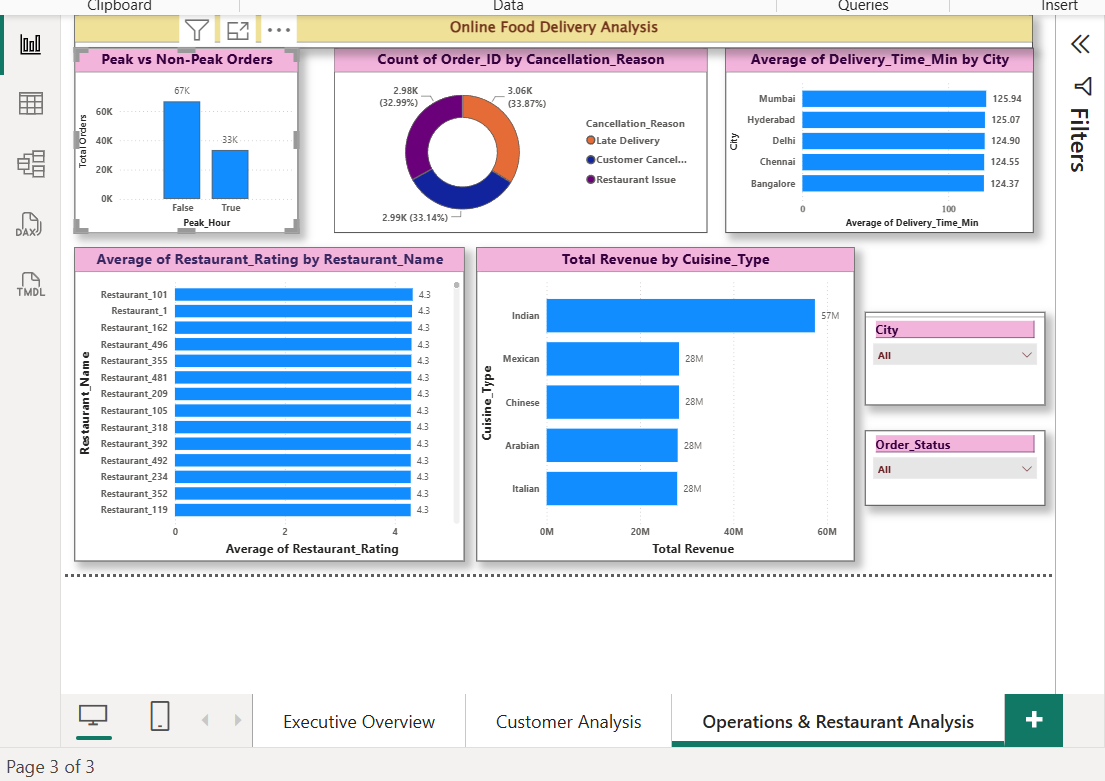

This screenshot's page, from the dashboard's own definition file:
{"tool":"powerbi","page":{"name":"Operations & Restaurant Analysis","canvas":[1280,720],"ordinal":2},"visuals":[{"type":"clusteredColumnChart","title":"Peak vs Non-Peak Orders","fields":{"Category":["final_food_delivery.Peak_Hour"],"Y":["final_food_delivery.Total Orders"]},"box":[17.8,42.1,288.2,238],"z":0},{"type":"clusteredBarChart","fields":{"Category":["final_food_delivery.City"],"Y":["Avg(final_food_delivery.Delivery_Time_Min)"]},"box":[856.6,42.1,396.7,238],"z":1},{"type":"donutChart","fields":{"Category":["final_food_delivery.Cancellation_Reason"],"Y":["CountNonNull(final_food_delivery.Order_ID)"]},"box":[351.4,42.1,480.9,238],"z":2},{"type":"barChart","fields":{"Category":["final_food_delivery.Restaurant_Name"],"Y":["Avg(final_food_delivery.Restaurant_Rating)"]},"box":[17.4,299.4,502.2,403.7],"z":3},{"type":"clusteredBarChart","fields":{"Category":["final_food_delivery.Cuisine_Type"],"Y":["final_food_delivery.Total Revenue"]},"box":[535.1,299.4,486.8,403.7],"z":4},{"type":"textbox","title":"Online Food Delivery Analysis","box":[17.4,0,1234.3,42.5],"z":5},{"type":"slicer","fields":{"Values":["final_food_delivery.City"]},"box":[1035.3,382.5,231.8,119.8],"z":6},{"type":"slicer","fields":{"Values":["final_food_delivery.Order_Status"]},"box":[1035.3,535.1,231.8,96.6],"z":7}]}

Visuals, with their boxes on the page's 1280x720 design canvas (x1, y1, x2, y2). These are canvas units, not pixel positions in the 1105x781 screenshot, which may show the page scaled, cropped or inside an application window:
"Peak vs Non-Peak Orders" clusteredColumnChart: select_region(18, 42, 306, 280)
clusteredBarChart - final_food_delivery.City x Avg(final_food_delivery.Delivery_Time_Min): select_region(857, 42, 1253, 280)
donutChart - final_food_delivery.Cancellation_Reason x CountNonNull(final_food_delivery.Order_ID): select_region(351, 42, 832, 280)
barChart - final_food_delivery.Restaurant_Name x Avg(final_food_delivery.Restaurant_Rating): select_region(17, 299, 520, 703)
clusteredBarChart - final_food_delivery.Cuisine_Type x final_food_delivery.Total Revenue: select_region(535, 299, 1022, 703)
"Online Food Delivery Analysis" textbox: select_region(17, 0, 1252, 42)
slicer - final_food_delivery.City: select_region(1035, 382, 1267, 502)
slicer - final_food_delivery.Order_Status: select_region(1035, 535, 1267, 632)
